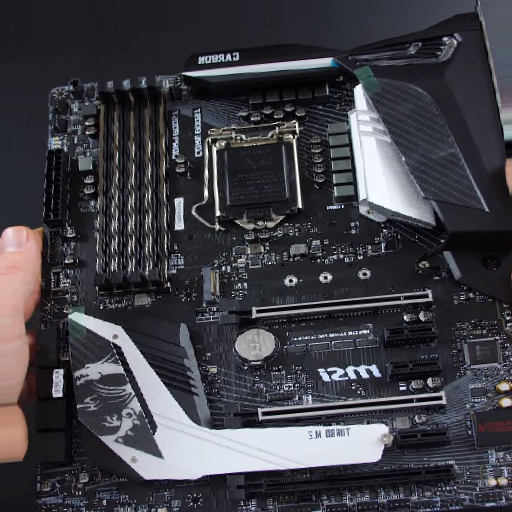CPU: (207, 133, 305, 230)
GPU: (227, 464, 458, 502), (221, 391, 447, 429), (216, 288, 434, 327)
MOTHERBOARD: (27, 21, 509, 508)
RAM: (92, 79, 176, 295)
SSD: (198, 265, 221, 305)
